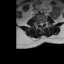CCS_normal: (40, 22, 42, 28)
LFS_normal: (43, 20, 45, 25)
LLS_normal: (42, 22, 43, 27)
RFS_stenosis: (37, 21, 39, 26)
RLS_normal: (39, 22, 40, 27)
